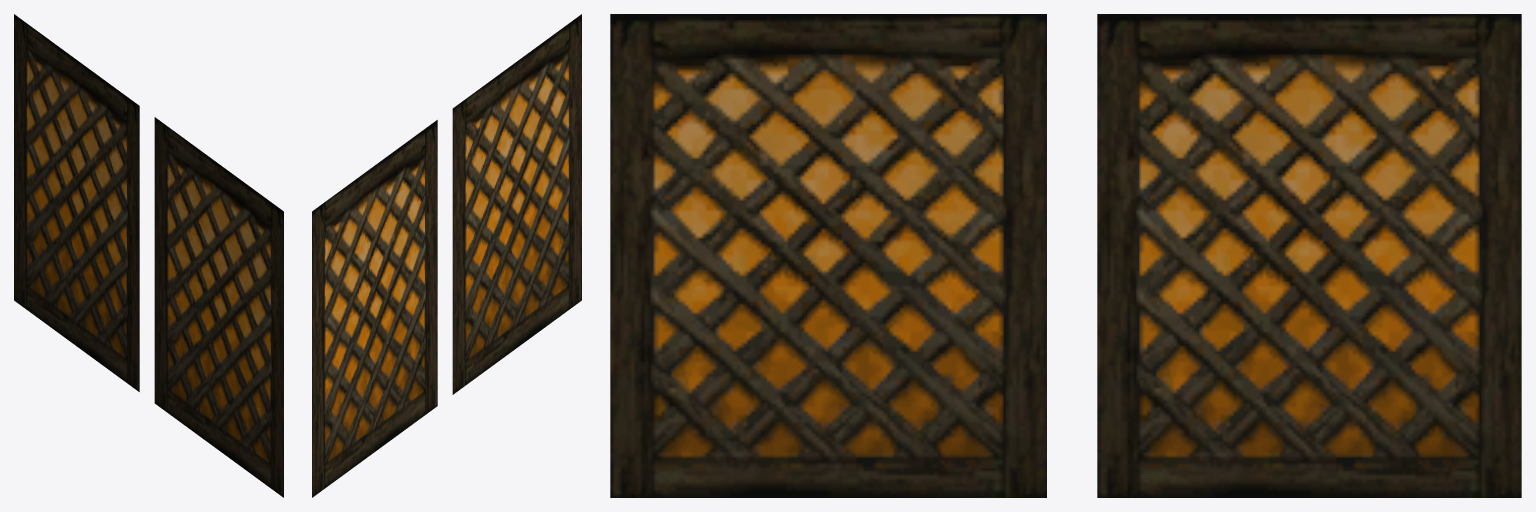
File: LAKETOWN_EXTERIOR_PS_LT_WINDOWS2313.fbx
The picture shows the model from 3 angles, left to right: view 1: azimuth 30°, elevation 25°; view 2: azimuth 150°, elevation 25°; view 3: azimuth 270°, elevation 25°; orthographic projection. The views are drawn at different scales.
Visible parts, largest first — view 1: LAKETOWN_EXTERIOR_PS_LT_WINDOWS2313; view 2: LAKETOWN_EXTERIOR_PS_LT_WINDOWS2313; view 3: LAKETOWN_EXTERIOR_PS_LT_WINDOWS2313.
Boxes of the visible parts, x1,y1,x2,y2 form: LAKETOWN_EXTERIOR_PS_LT_WINDOWS2313: (14,14,283,497); LAKETOWN_EXTERIOR_PS_LT_WINDOWS2313: (312,14,581,497); LAKETOWN_EXTERIOR_PS_LT_WINDOWS2313: (610,14,1521,497).
Size of the model in its own units: 0 by 13100 by 22352.
Materials: 1 (1 with a texture image).
